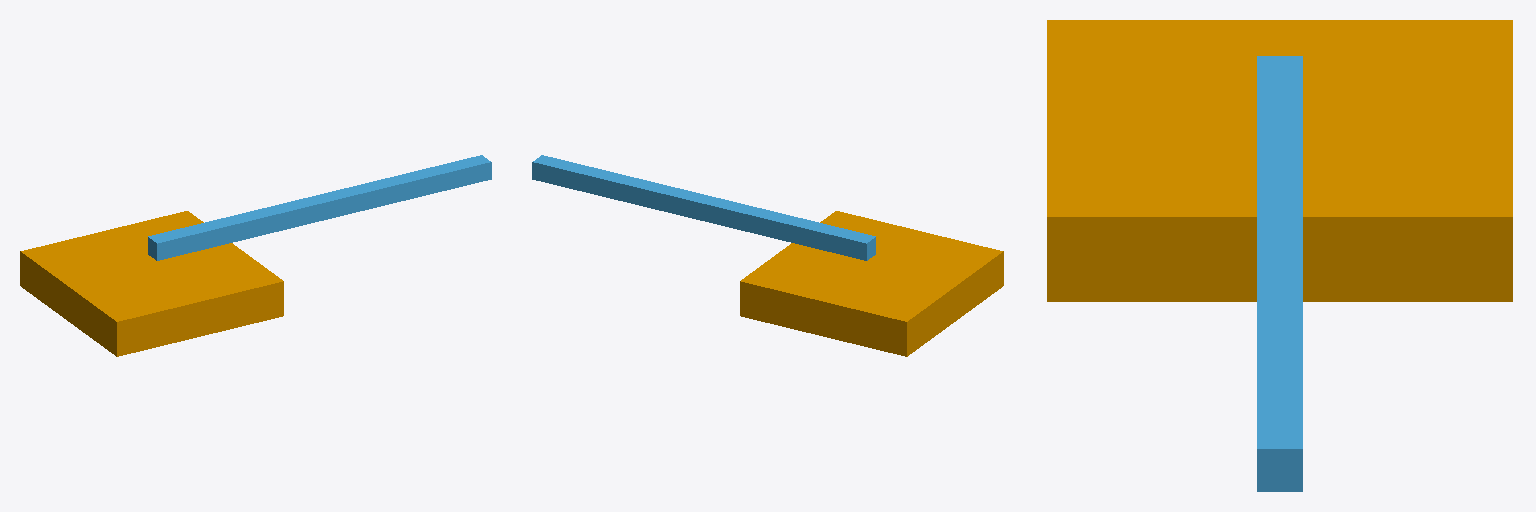
The robot description file, URDF, robot "test_robot":
<?xml version="1.0"?>
<robot name="test_robot">

  <gazebo>
    <static>false</static>
    <plugin name="gazebo_ros_force_system" filename="libgazebo_ros_force_system.so"/>
  </gazebo>

  <link name="base">
    <inertial>
      <mass value="10000.0"/>
      <origin xyz="0 0 0"/>
      <inertia ixx="1.0" iyy="1.0" izz="1.0" ixy="0" ixz="0" iyz="0"/>
    </inertial>
    <visual>
      <geometry><box size="0.5 0.5 0.1"/></geometry>
    </visual>
    <collision>
      <geometry><box size="0.5 0.5 0.1"/></geometry>
    </collision>
  </link>

  <joint name="base_arm_joint" type="revolute">
    <parent link="base"/>
    <child link="arm"/>
    <origin xyz="0 0 0.1"/>
    <axis xyz="0 0 1"/>
    <limit lower="-3.14" upper="3.14" velocity="100" effort="10000"/>
    <dynamics damping="0.1" friction="0.0"/>
  </joint>

  <link name="arm">
    <inertial>
      <mass value="1.0"/>
      <origin xyz="0.5 0 0"/>
      <inertia ixx="0.1" iyy="0.1" izz="0.1" ixy="0" ixz="0" iyz="0"/>
    </inertial>
    <visual>
      <origin xyz="0.5 0 0"/>
      <geometry><box size="1.0 0.05 0.05"/></geometry>
    </visual>
    <collision>
      <origin xyz="0.5 0 0"/>
      <geometry><box size="1.0 0.05 0.05"/></geometry>
    </collision>
  </link>

</robot>

--- What the picture shows (computed from the rendered views, not written in the file) ---
Views: 3 orthographic renders of the robot side by side, from view 1: azimuth 30°, elevation 25°; view 2: azimuth 150°, elevation 25°; view 3: azimuth 270°, elevation 25°.
Robot: test_robot — 2 links, 1 joints (1 revolute); root link base; default pose: all joints at 0.
Links seen in each view (by area): view 1: base, arm; view 2: base, arm; view 3: base, arm.
Boxes of the visible links, x1,y1,x2,y2 form: base: (20, 211, 283, 356); arm: (148, 155, 491, 260); base: (740, 211, 1003, 356); arm: (532, 155, 875, 260); base: (1047, 20, 1512, 301); arm: (1257, 56, 1302, 491).
Size in the robot's own frame: 1.25 by 0.5 by 0.175 metres.
Geometry: primitives only (box / cylinder / sphere), no mesh files.
